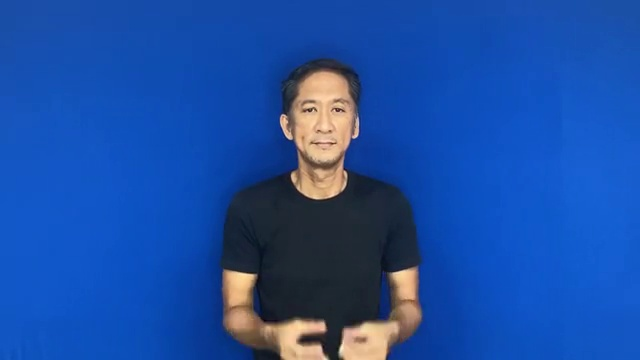egg: (259, 308, 400, 360)
